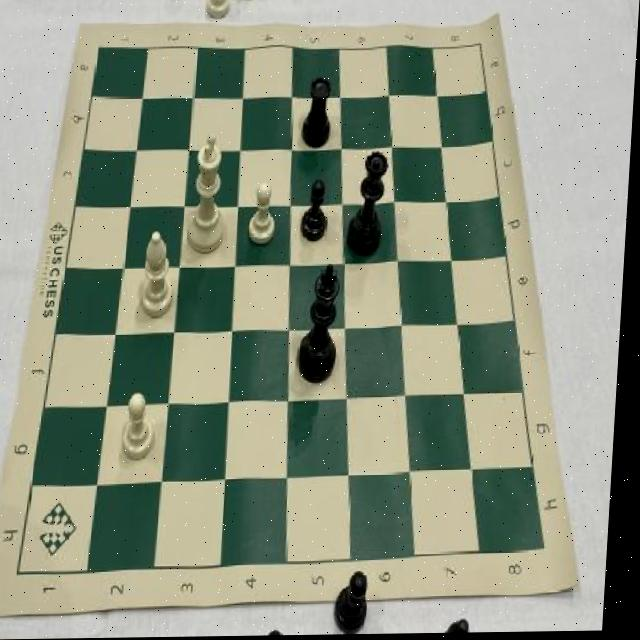black-bishop: (300, 259, 348, 389)
black-knight: (300, 181, 334, 245)
black-pawn: (347, 145, 391, 260)
black-queen: (299, 73, 337, 155)
black-rook: (137, 230, 181, 321)
white-bishop: (186, 131, 235, 257)
white-knight: (123, 390, 165, 465), (248, 180, 281, 248)
